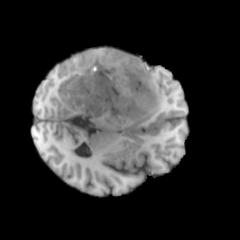glioma: (43, 50, 162, 125)
